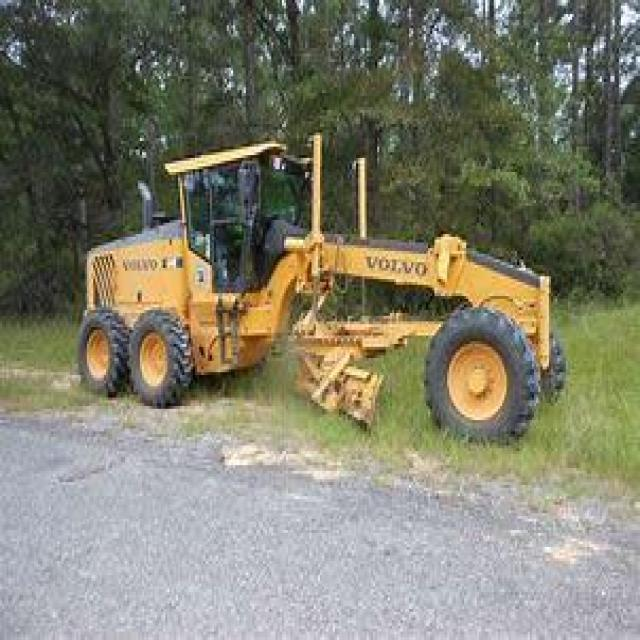buldozerpayloadergrader: (68, 127, 574, 459)
